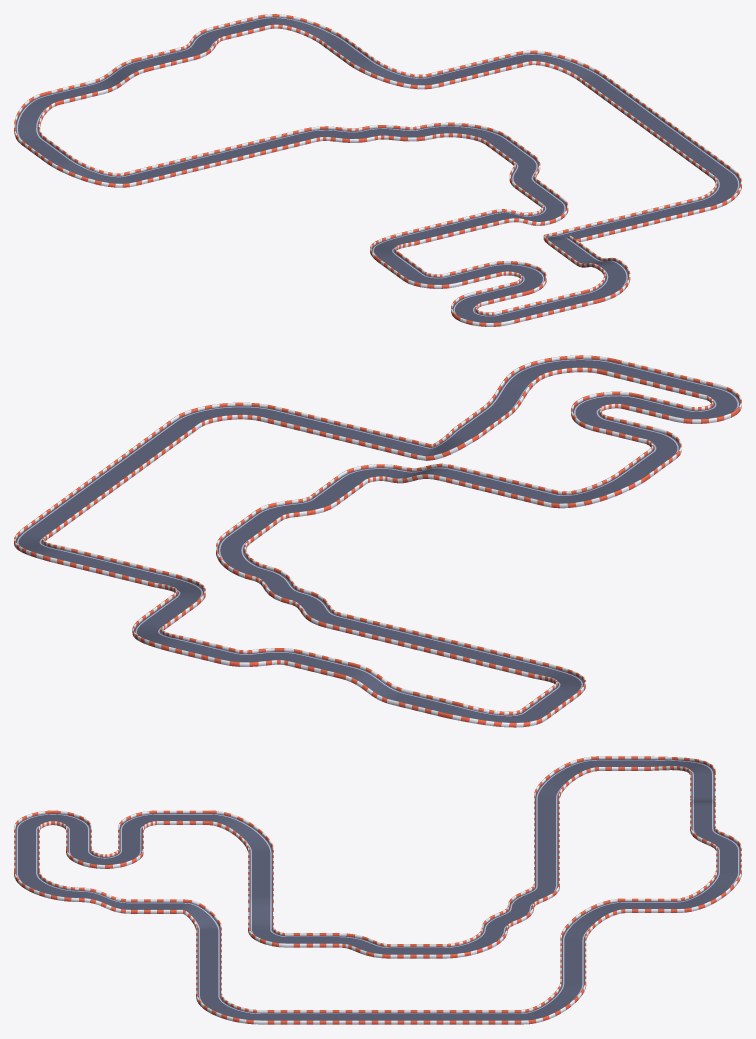
The model's file is track.glb.
The picture shows the model from 3 angles, top to bottom: view 1: azimuth 30°, elevation 25°; view 2: azimuth 150°, elevation 25°; view 3: azimuth 270°, elevation 25°; orthographic projection. The views are drawn at different scales.
Parts seen in each view (by area): view 1: track-road-wide-corner-large-ramp.004, track-road-wide-corner-large-ramp.001, track-road-wide-corner-large-ramp.002, track-road-wide-corner-large-ramp.003, track-road-wide-corner-large-ramp.005, track-road-wide-corner-large.002, track-road-wide-corner-large, track-road-wide-corner-large.001, track-road-wide-straight-hill-complete.002, track-road-wide-curve.002, track-road-wide-curve.003, track-road-wide-curve.001 (+38 smaller); view 2: track-road-wide-corner-large-ramp, track-road-wide-corner-large, track-road-wide-corner-large.001, track-road-wide-corner-large-ramp.004, track-road-wide-corner-large.002, track-road-wide-straight-hill-complete.001, track-road-wide-straight-hill-complete.002, track-road-wide-curve.001, track-road-wide-curve, track-road-wide-curve.002, track-road-wide-curve.003, track-road-wide-straight.023 (+40 smaller); view 3: track-road-wide-corner-large-ramp.002, track-road-wide-corner-large-ramp, track-road-wide-corner-large-ramp.005, track-road-wide-corner-large-ramp.003, track-road-wide-corner-large-ramp.001, track-road-wide-corner-large.002, track-road-wide-corner-large, track-road-wide-corner-large.001, track-road-wide-corner-large-ramp.004, track-road-wide-straight-hill-complete, track-road-wide-curve, track-road-wide-curve.001 (+39 smaller).
Part boxes in pixels (x1=…): track-road-wide-corner-large-ramp.004: x1=14, y1=92, x2=58, y2=144; track-road-wide-corner-large-ramp.001: x1=516, y1=50, x2=603, y2=82; track-road-wide-corner-large-ramp.002: x1=349, y1=56, x2=438, y2=89; track-road-wide-corner-large-ramp.003: x1=258, y1=14, x2=345, y2=46; track-road-wide-corner-large-ramp.005: x1=47, y1=155, x2=136, y2=187; track-road-wide-corner-large.002: x1=420, y1=122, x2=507, y2=144; track-road-wide-corner-large: x1=586, y1=262, x2=630, y2=302; track-road-wide-corner-large.001: x1=698, y1=169, x2=741, y2=210; track-road-wide-straight-hill-complete.002: x1=91, y1=58, x2=148, y2=93; track-road-wide-curve.002: x1=362, y1=125, x2=432, y2=141; track-road-wide-curve.003: x1=304, y1=126, x2=374, y2=142; track-road-wide-curve.001: x1=181, y1=27, x2=225, y2=60; track-road-wide-corner-large-ramp: x1=543, y1=470, x2=646, y2=508; track-road-wide-corner-large: x1=513, y1=355, x2=615, y2=380; track-road-wide-corner-large.001: x1=174, y1=402, x2=275, y2=427; track-road-wide-corner-large-ramp.004: x1=444, y1=702, x2=547, y2=727; track-road-wide-corner-large.002: x1=216, y1=533, x2=266, y2=580; track-road-wide-straight-hill-complete.001: x1=483, y1=371, x2=539, y2=416; track-road-wide-straight-hill-complete.002: x1=340, y1=663, x2=406, y2=704; track-road-wide-curve.001: x1=221, y1=648, x2=302, y2=666; track-road-wide-curve: x1=255, y1=495, x2=336, y2=520; track-road-wide-curve.002: x1=252, y1=565, x2=303, y2=603; track-road-wide-curve.003: x1=289, y1=589, x2=340, y2=627; track-road-wide-straight.023: x1=392, y1=690, x2=459, y2=717; track-road-wide-corner-large-ramp.002: x1=560, y1=898, x2=625, y2=940; track-road-wide-corner-large-ramp: x1=209, y1=810, x2=273, y2=852; track-road-wide-corner-large-ramp.005: x1=534, y1=756, x2=598, y2=797; track-road-wide-corner-large-ramp.003: x1=677, y1=870, x2=741, y2=912; track-road-wide-corner-large-ramp.001: x1=521, y1=981, x2=586, y2=1024; track-road-wide-corner-large.002: x1=442, y1=927, x2=507, y2=958; track-road-wide-corner-large: x1=14, y1=871, x2=78, y2=901; track-road-wide-corner-large.001: x1=196, y1=993, x2=261, y2=1024; track-road-wide-corner-large-ramp.004: x1=651, y1=756, x2=715, y2=774; track-road-wide-straight-hill-complete: x1=248, y1=894, x2=273, y2=929; track-road-wide-curve: x1=339, y1=933, x2=390, y2=958; track-road-wide-curve.001: x1=690, y1=826, x2=741, y2=850.
Size of the model in its own units: 45.98 by 3.3 by 55.95.
18 materials, 18 textured.
